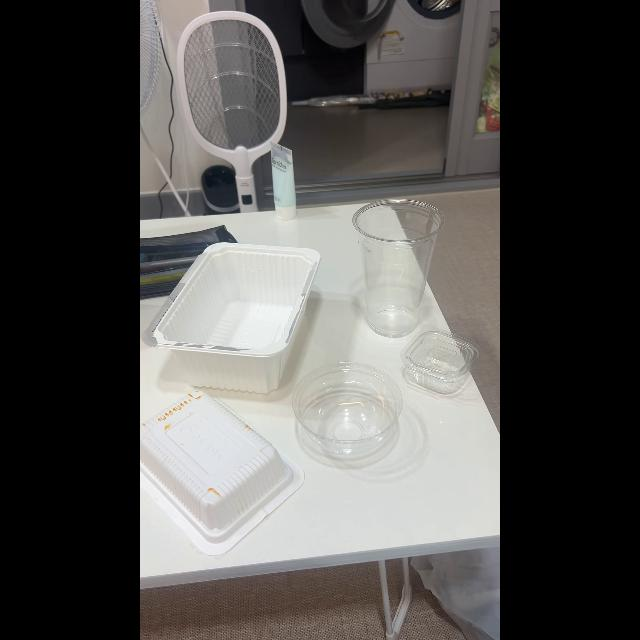clean: (144, 245, 322, 388), (297, 366, 403, 458), (359, 203, 433, 334), (400, 330, 480, 392)
dirty: (140, 390, 300, 552)
